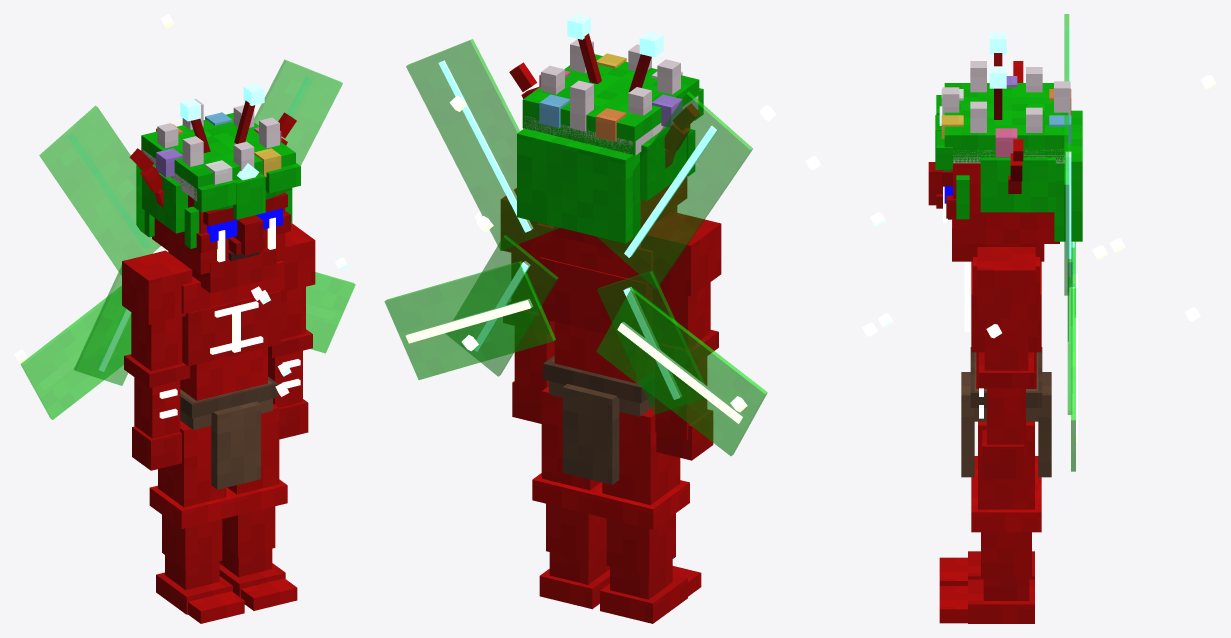
File: fairy_s0_evo2.glb
3 views of the same model, side by side, from view 1: azimuth 30°, elevation 25°; view 2: azimuth 150°, elevation 25°; view 3: azimuth 270°, elevation 25° (orthographic). The views are drawn at different scales.
Parts seen in each view (by area): view 1: Torso, Head, ArmR, LegR, LegL, ArmL; view 2: Torso, Head, LegR, ArmR, LegL, ArmL; view 3: Head, Torso, ArmL, LegL, LegR.
Part boxes in pixels (x1,y1,x2,y2): Torso: (14, 14, 355, 489); Head: (129, 83, 300, 293); ArmR: (122, 250, 192, 470); LegR: (149, 421, 244, 623); LegL: (219, 403, 297, 610); ArmL: (268, 223, 315, 439); Torso: (384, 39, 776, 484); Head: (509, 14, 703, 252); LegR: (592, 406, 701, 623); ArmR: (641, 211, 721, 460); LegL: (532, 386, 609, 609); ArmL: (500, 188, 554, 423); Head: (928, 32, 1082, 261); Torso: (805, 14, 1216, 477); ArmL: (977, 247, 1035, 479); LegL: (939, 421, 1041, 623); LegR: (939, 456, 1041, 585).
Bounding box in the file's own units: 0.7806 × 1.11 × 0.7622.
34 materials, 34 textured.
